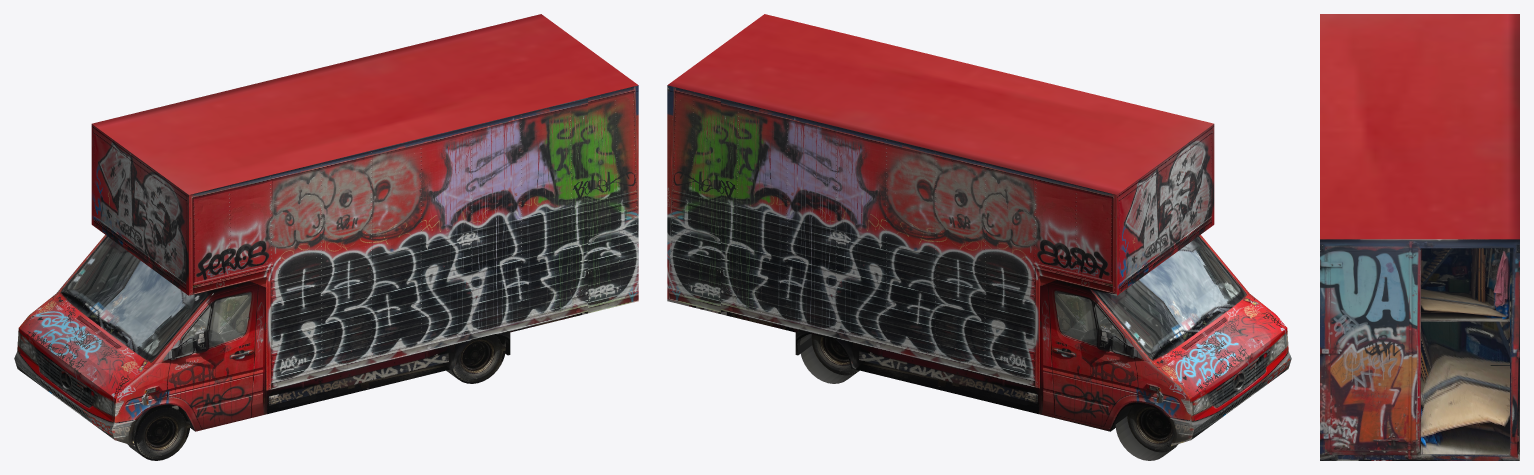
Rendered from TruckRed.gltf.
3 renders of one model, left to right at view 1: azimuth 30°, elevation 25°; view 2: azimuth 150°, elevation 25°; view 3: azimuth 270°, elevation 25°, orthographic. The views are drawn at different scales.
Visible parts, largest first — view 1: TruckRed; view 2: TruckRed; view 3: TruckRed.
Part boxes in pixels (left/top/right/bottom): TruckRed: left=14, top=14, right=638, bottom=460; TruckRed: left=667, top=14, right=1291, bottom=460; TruckRed: left=1320, top=14, right=1519, bottom=460.
Size of the model in its own units: 10.8 by 5.11 by 3.46.
Materials: 6 (5 with a texture image).
